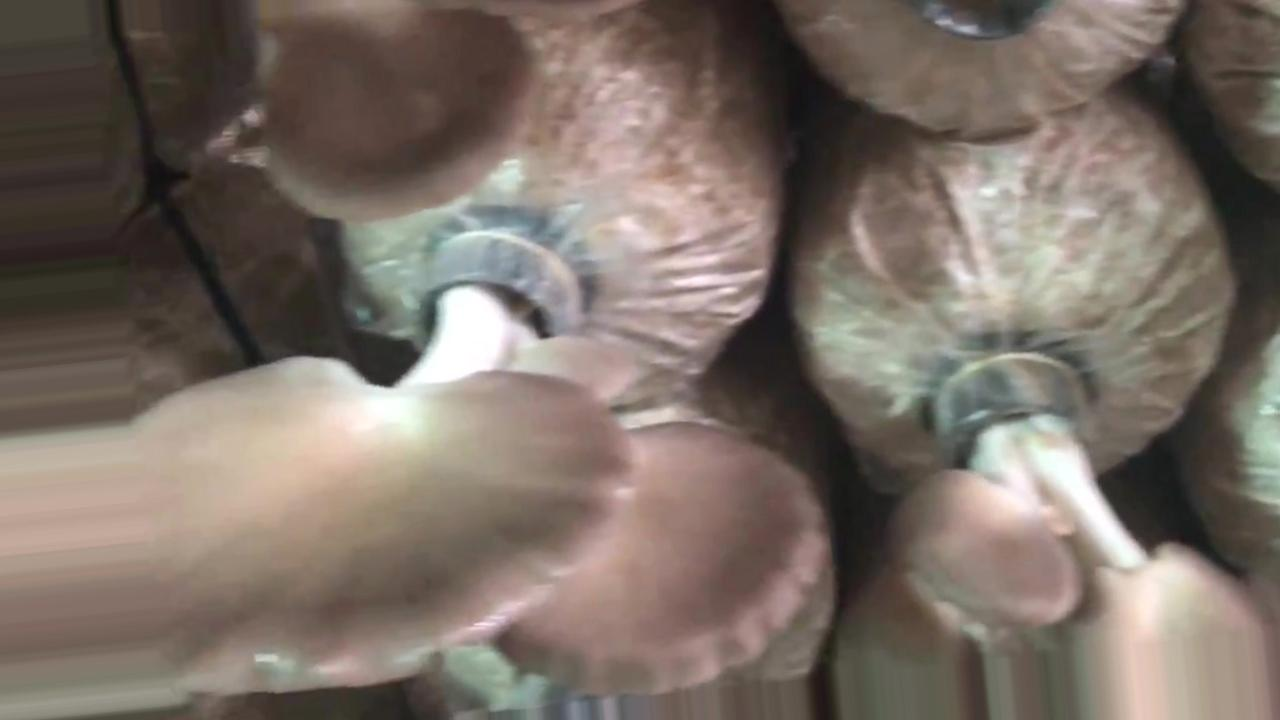nam: (1, 209, 642, 700), (835, 355, 1279, 720), (475, 417, 830, 702), (257, 2, 539, 223)
